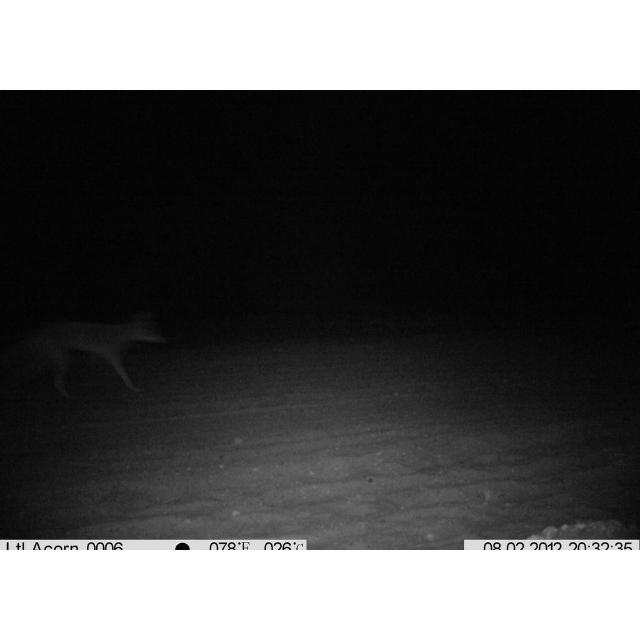animals: (18, 314, 164, 394)
